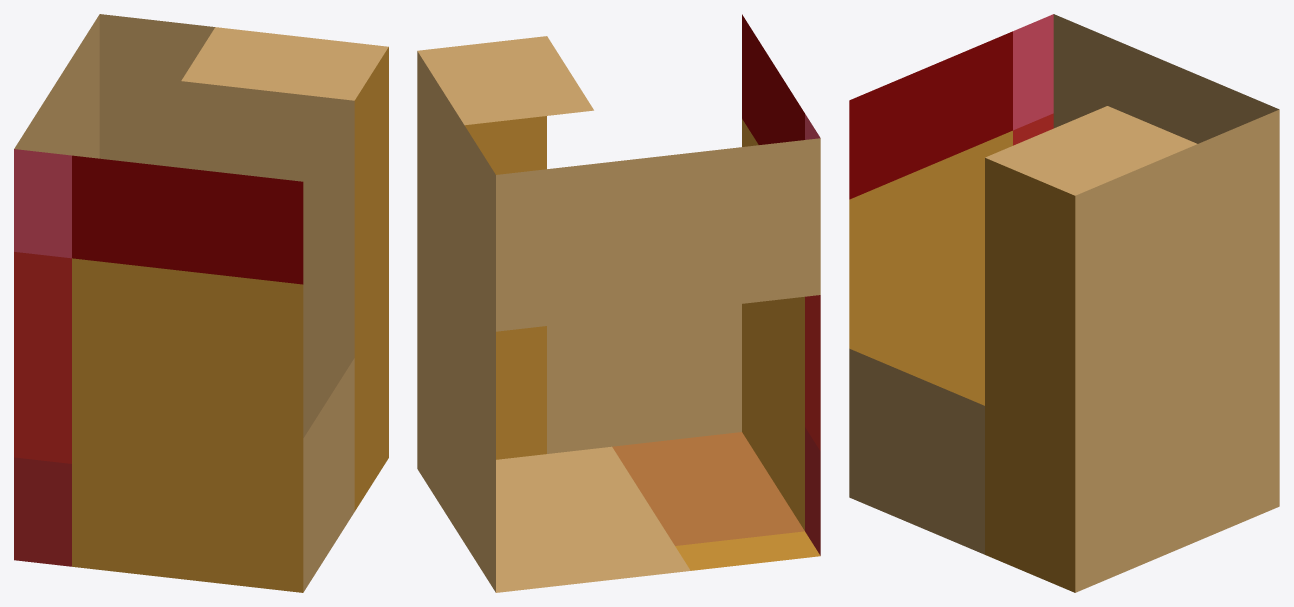
The model's file is LuxuaryMerchantHat.glb.
3 views of the same model, side by side, from view 1: azimuth 30°, elevation 25°; view 2: azimuth 150°, elevation 25°; view 3: azimuth 270°, elevation 25° (orthographic). The views are drawn at different scales.
Parts seen in each view (by area): view 1: LuxuaryMerchantHat.001; view 2: LuxuaryMerchantHat.001; view 3: LuxuaryMerchantHat.001.
Boxes of the visible parts, left/top/right/bottom form: LuxuaryMerchantHat.001: left=14, top=14, right=388, bottom=592; LuxuaryMerchantHat.001: left=417, top=14, right=820, bottom=592; LuxuaryMerchantHat.001: left=849, top=14, right=1279, bottom=592.
Bounding box in the file's own units: 48.83 × 49.73 × 48.83.
Materials: 1 (1 with a texture image).
